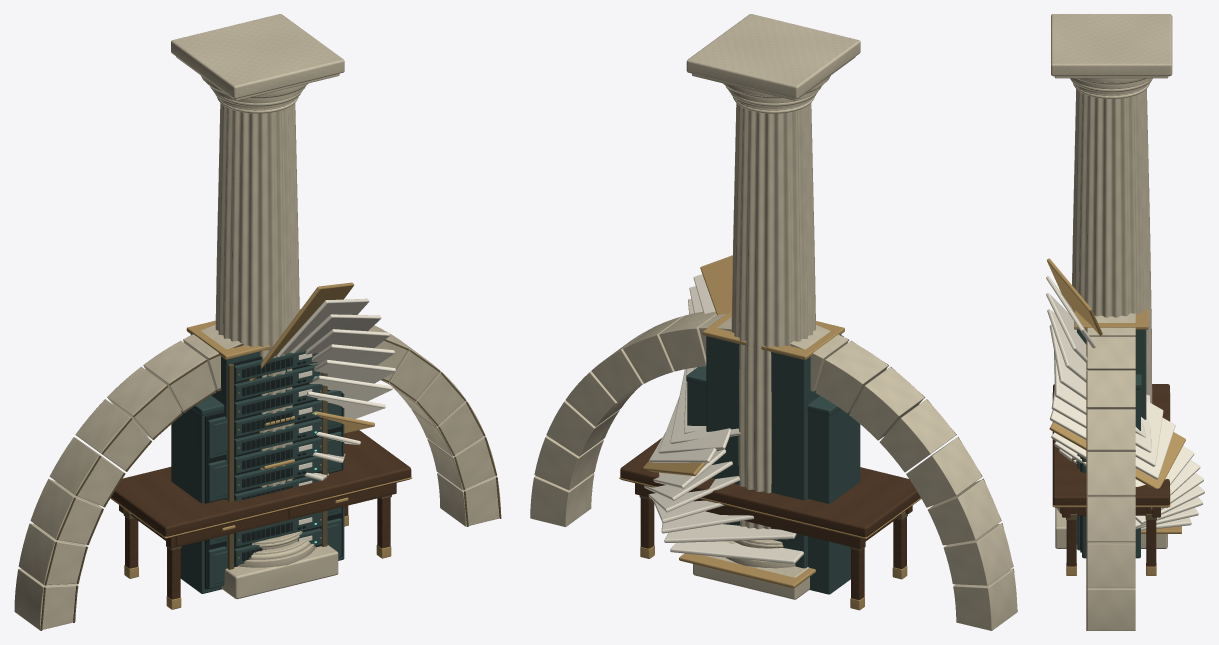
The model's file is museum-kit.glb.
The picture shows the model from 3 angles, left to right: view 1: azimuth 30°, elevation 25°; view 2: azimuth 150°, elevation 25°; view 3: azimuth 270°, elevation 25°; orthographic projection. The views are drawn at different scales.
Parts seen in each view (by area): view 1: column - Honed warm limestone, arch - Honed warm limestone, desk - Oiled smoked oak, server - Enamelled archive steel, memory - Unmarked ivory rag paper, cabinet - Enamelled archive steel, server - Recess and ventilation shadow, arch - Patinated bronze recesses, memory - Satin bronze, server - Patinated bronze recesses, desk - Satin bronze, cabinet - Recess and ventilation shadow (+2 smaller); view 2: column - Honed warm limestone, arch - Honed warm limestone, desk - Oiled smoked oak, memory - Unmarked ivory rag paper, server - Enamelled archive steel, cabinet - Enamelled archive steel, memory - Satin bronze, server - Satin bronze, desk - Satin bronze; view 3: column - Honed warm limestone, arch - Honed warm limestone, memory - Unmarked ivory rag paper, desk - Oiled smoked oak, memory - Satin bronze, cabinet - Enamelled archive steel, server - Enamelled archive steel, server - Satin bronze, arch - Patinated bronze recesses, desk - Satin bronze.
Boxes of the visible parts, left/top/right/bottom form: column - Honed warm limestone: left=171, top=14, right=344, bottom=599; arch - Honed warm limestone: left=14, top=309, right=500, bottom=630; desk - Oiled smoked oak: left=111, top=430, right=411, bottom=599; server - Enamelled archive steel: left=190, top=334, right=322, bottom=565; memory - Unmarked ivory rag paper: left=276, top=298, right=395, bottom=480; cabinet - Enamelled archive steel: left=171, top=390, right=344, bottom=593; server - Recess and ventilation shadow: left=232, top=356, right=321, bottom=567; arch - Patinated bronze recesses: left=40, top=339, right=501, bottom=630; memory - Satin bronze: left=249, top=282, right=374, bottom=433; server - Patinated bronze recesses: left=227, top=363, right=327, bottom=569; desk - Satin bronze: left=110, top=477, right=411, bottom=609; cabinet - Recess and ventilation shadow: left=204, top=390, right=342, bottom=589; column - Honed warm limestone: left=686, top=14, right=860, bottom=599; arch - Honed warm limestone: left=530, top=311, right=1017, bottom=630; desk - Oiled smoked oak: left=620, top=438, right=920, bottom=599; memory - Unmarked ivory rag paper: left=644, top=274, right=803, bottom=563; server - Enamelled archive steel: left=706, top=334, right=841, bottom=568; cabinet - Enamelled archive steel: left=686, top=366, right=860, bottom=594; memory - Satin bronze: left=643, top=255, right=815, bottom=588; server - Satin bronze: left=702, top=311, right=844, bottom=359; desk - Satin bronze: left=619, top=477, right=921, bottom=610; column - Honed warm limestone: left=1051, top=14, right=1172, bottom=548; arch - Honed warm limestone: left=1087, top=313, right=1135, bottom=630; memory - Unmarked ivory rag paper: left=1046, top=276, right=1204, bottom=530; desk - Oiled smoked oak: left=1053, top=384, right=1169, bottom=566; memory - Satin bronze: left=1047, top=258, right=1185, bottom=533; cabinet - Enamelled archive steel: left=1076, top=374, right=1141, bottom=558; server - Enamelled archive steel: left=1077, top=329, right=1146, bottom=419; server - Satin bronze: left=1074, top=309, right=1148, bottom=329; arch - Patinated bronze recesses: left=1086, top=329, right=1087, bottom=630; desk - Satin bronze: left=1052, top=393, right=1170, bottom=575.
Bounding box in the file's own units: 5.8 × 6.22 × 1.83.
Materials: 9 (2 with a texture image).
